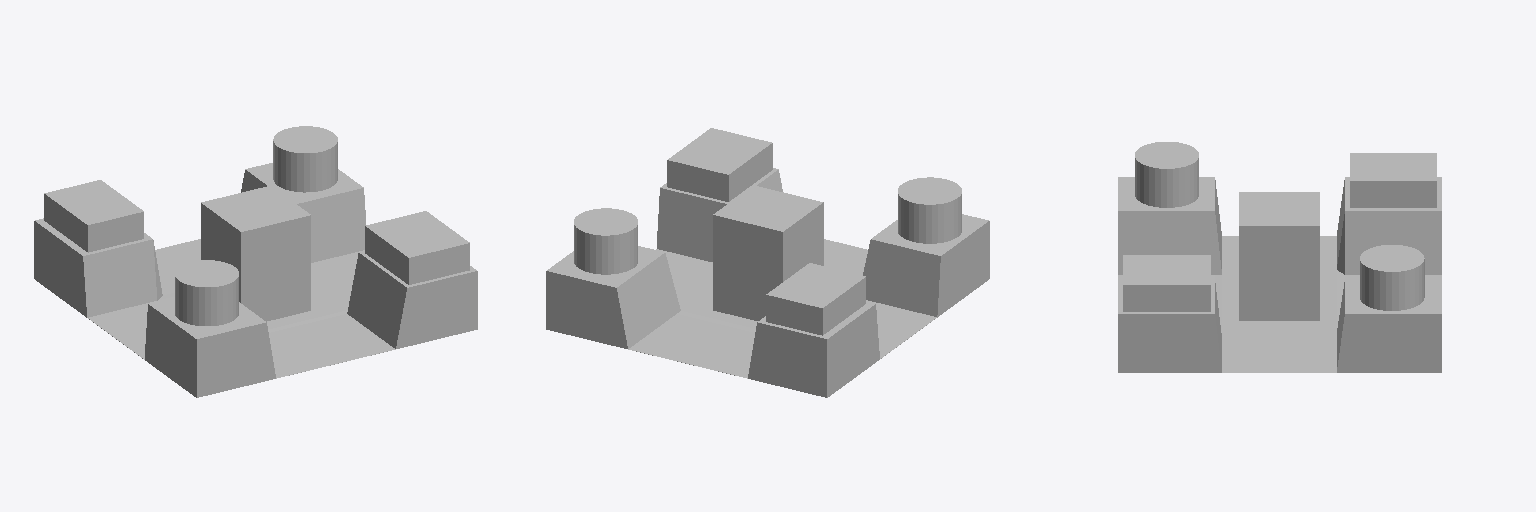
File: workshop.obj
The picture shows the model from 3 angles: view 1: azimuth 30°, elevation 25°; view 2: azimuth 150°, elevation 25°; view 3: azimuth 270°, elevation 25°; orthographic projection.
Parts seen in each view (by area): view 1: Cube_Cube.006; view 2: Cube_Cube.006; view 3: Cube_Cube.006.
Part boxes in pixels (left/top/right/bottom): Cube_Cube.006: left=34, top=126, right=477, bottom=397; Cube_Cube.006: left=546, top=128, right=989, bottom=397; Cube_Cube.006: left=1118, top=142, right=1441, bottom=372.
Size of the model in its own units: 1 by 0.3354 by 1.